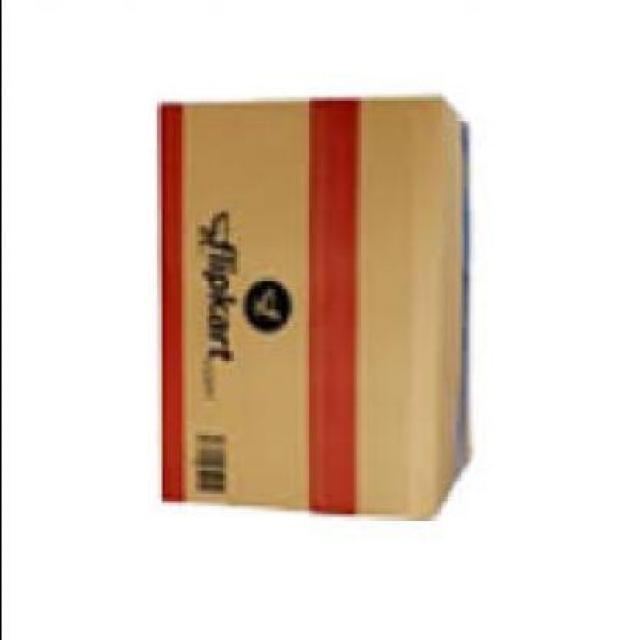box: (163, 94, 477, 515)
